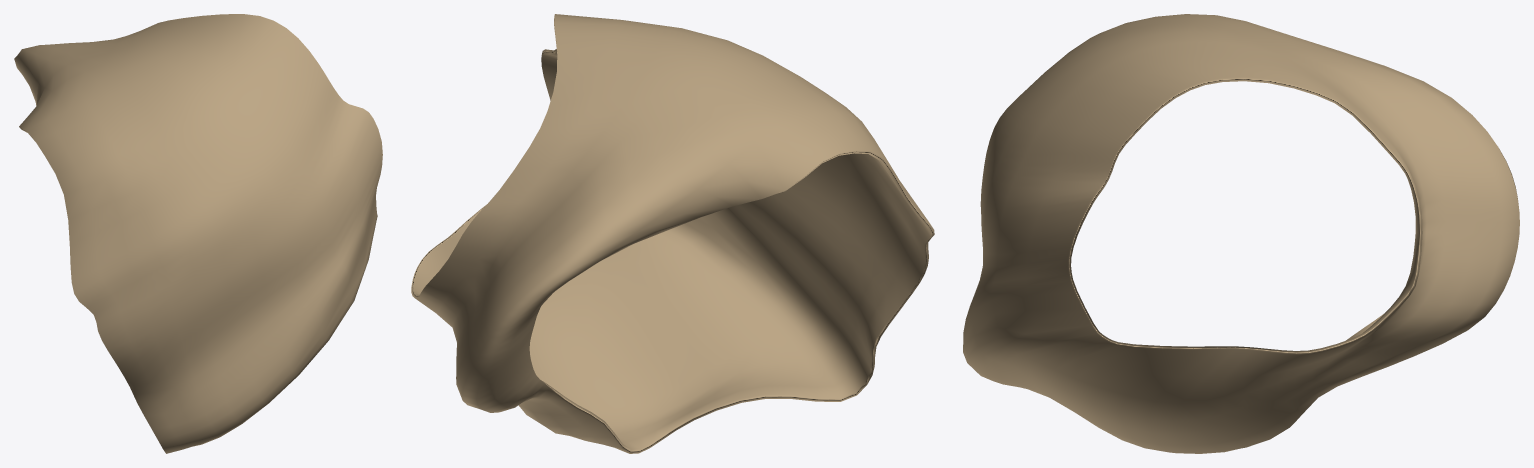
3 renders of one model, left to right at view 1: azimuth 30°, elevation 25°; view 2: azimuth 150°, elevation 25°; view 3: azimuth 270°, elevation 25°, orthographic. The views are drawn at different scales.
Visible parts, largest first — view 1: 右侧肩关节囊; view 2: 右侧肩关节囊; view 3: 右侧肩关节囊.
Part boxes in pixels (left/top/right/bottom): 右侧肩关节囊: left=14, top=14, right=382, bottom=453; 右侧肩关节囊: left=411, top=14, right=934, bottom=453; 右侧肩关节囊: left=963, top=14, right=1519, bottom=453.
Bounding box in the file's own units: 0.0696 × 0.0687 × 0.086.
